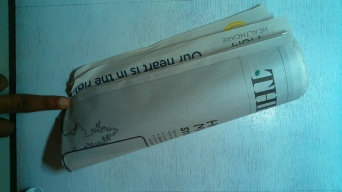p: (70, 10, 315, 168)
